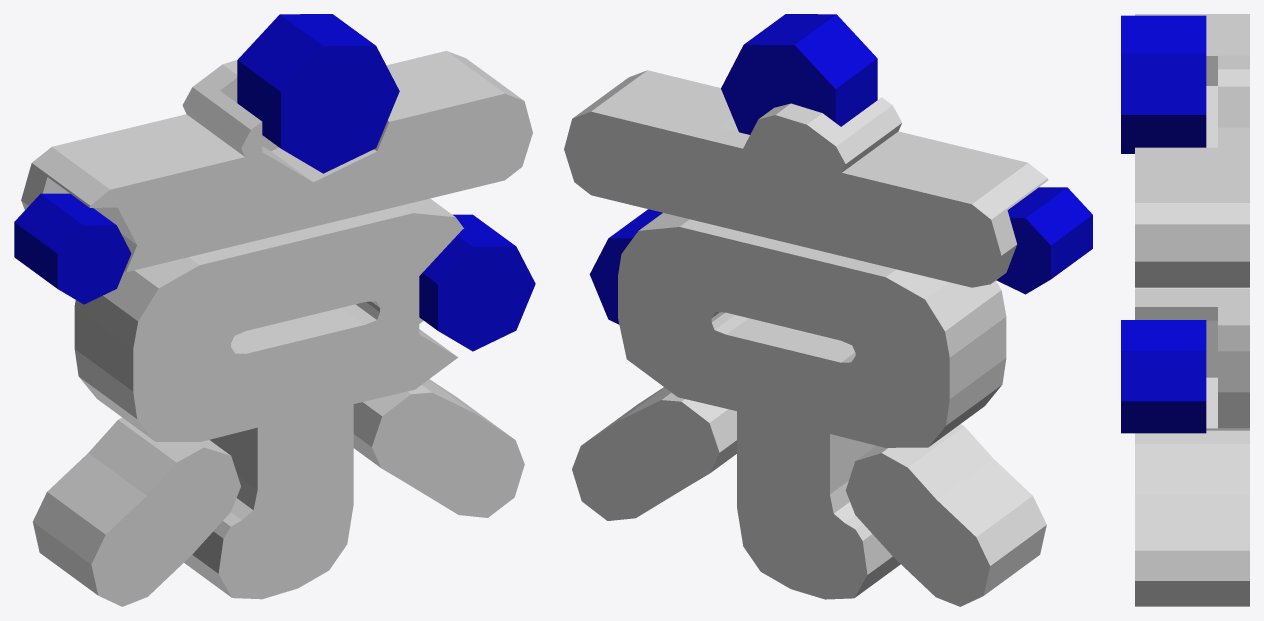
Rendered from Ch_Lite_China_京_01.fbx.
The picture shows the model from 3 angles, left to right: view 1: azimuth 30°, elevation 25°; view 2: azimuth 150°, elevation 25°; view 3: azimuth 270°, elevation 25°; orthographic projection. The views are drawn at different scales.
Visible parts, largest first — view 1: sphere1; view 2: sphere1; view 3: sphere1.
Part boxes in pixels (box(x1,y1,x2,y2)): sphere1: box(14, 14, 535, 606); sphere1: box(564, 14, 1092, 606); sphere1: box(1121, 14, 1249, 606).
Bounding box in the file's own units: 0.9498 × 1.03 × 0.2242.
